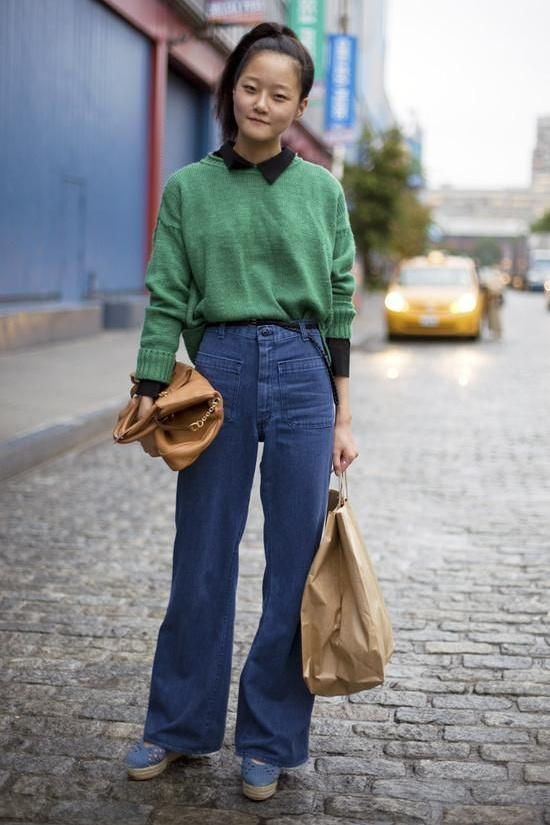pants: (146, 325, 337, 768)
sweater: (134, 154, 357, 386)
